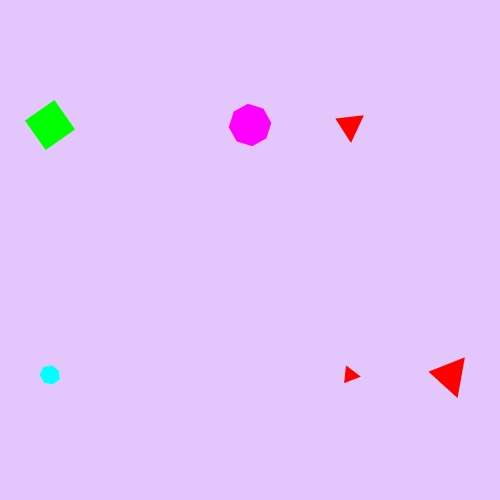heptagon: (36, 361, 65, 389)
octagon: (225, 100, 275, 150)
quadrilateral: (22, 97, 79, 154)
triangle: (429, 353, 472, 398), (333, 108, 367, 143), (338, 362, 363, 388)
